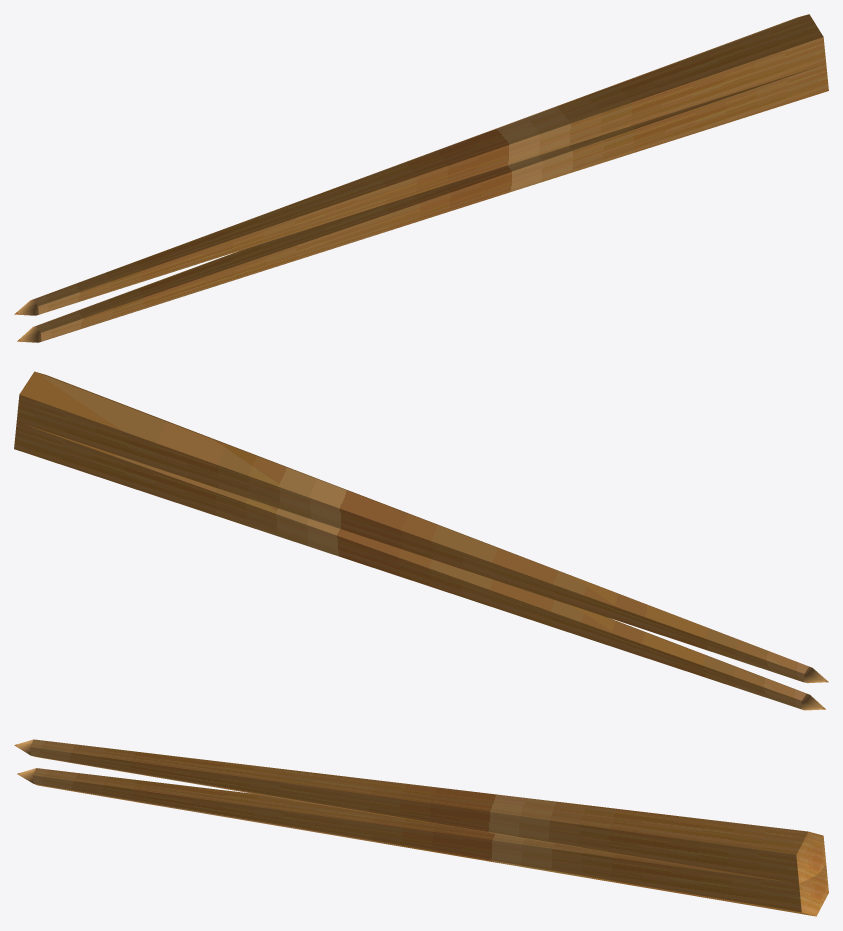
File: 2771item2771.gltf
3 views of the same model, one above another, from view 1: azimuth 30°, elevation 25°; view 2: azimuth 150°, elevation 25°; view 3: azimuth 330°, elevation 25° (orthographic).
Visible parts, largest first — view 1: 2771item2771; view 2: 2771item2771; view 3: 2771item2771.
Part boxes in pixels (x1,y1,x2,y2): 2771item2771: (14, 14, 828, 342); 2771item2771: (14, 371, 828, 710); 2771item2771: (14, 739, 828, 916).
Size of the model in its own units: 0.4586 by 0.0789 by 0.0261.
1 material, 1 textured.
